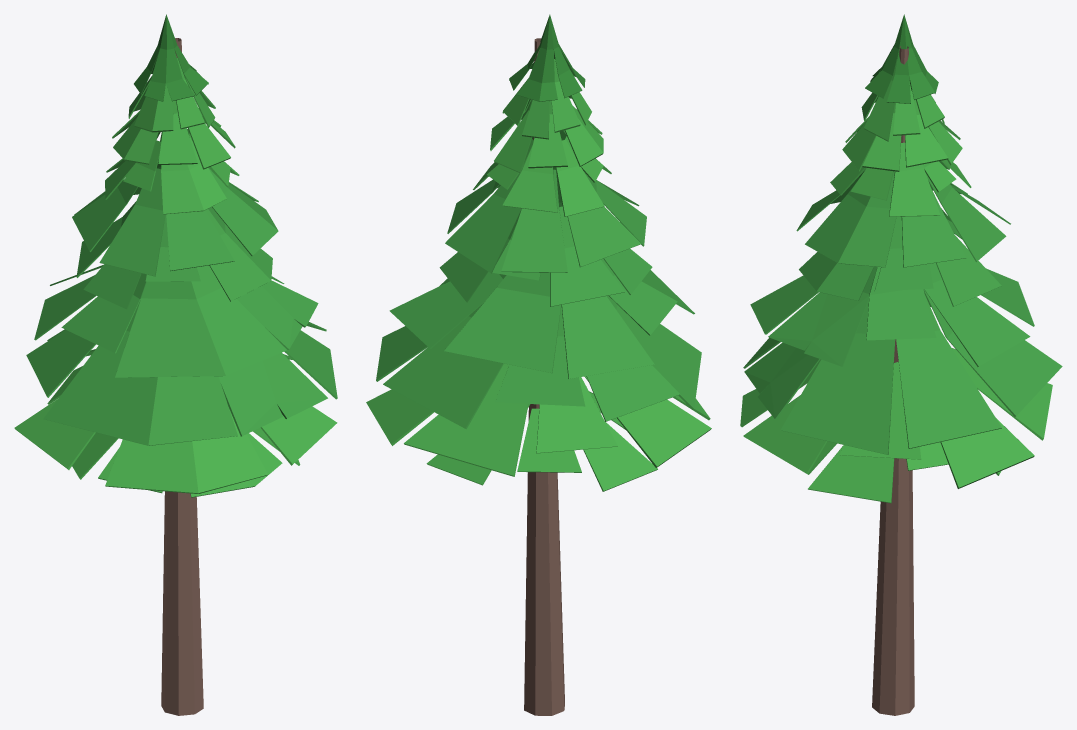
The model's file is Tree_011.glb.
3 views of the same model, side by side, from view 1: azimuth 30°, elevation 25°; view 2: azimuth 150°, elevation 25°; view 3: azimuth 270°, elevation 25° (orthographic).
Parts seen in each view (by area): view 1: Tree_011; view 2: Tree_011; view 3: Tree_011.
Part boxes in pixels (x1,y1,x2,y2): Tree_011: (14,14,337,715); Tree_011: (366,14,711,715); Tree_011: (740,14,1062,715).
Size of the model in its own units: 7.26 by 16.22 by 6.89.
Materials: 1 (1 with a texture image).
